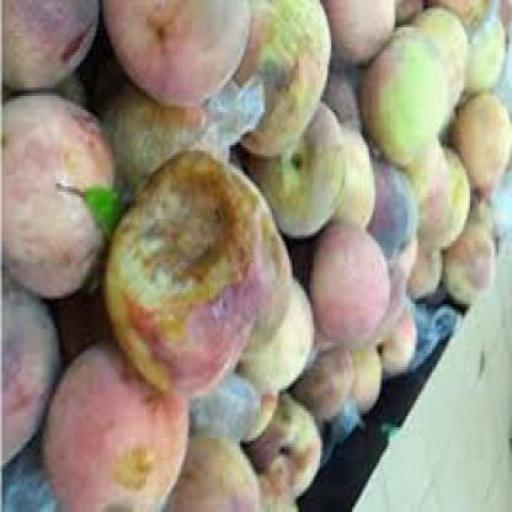biodegradable: (103, 140, 290, 392), (46, 334, 190, 509), (2, 84, 116, 296), (220, 0, 335, 151), (99, 84, 238, 200), (236, 96, 346, 238), (99, 0, 257, 96), (364, 21, 452, 162), (2, 288, 61, 463), (234, 274, 314, 397), (2, 0, 104, 91), (312, 227, 388, 343), (246, 389, 326, 492), (162, 435, 263, 509), (181, 372, 265, 444), (319, 0, 398, 71), (417, 145, 472, 241), (456, 92, 510, 187), (324, 129, 373, 227), (411, 6, 467, 84), (447, 216, 499, 298), (360, 306, 417, 378), (370, 166, 416, 252), (291, 345, 350, 411), (2, 438, 56, 510), (466, 14, 506, 88), (403, 244, 447, 301), (59, 181, 133, 213), (351, 347, 380, 414), (329, 66, 364, 120), (428, 0, 495, 25), (223, 490, 303, 509), (396, 0, 426, 22)
